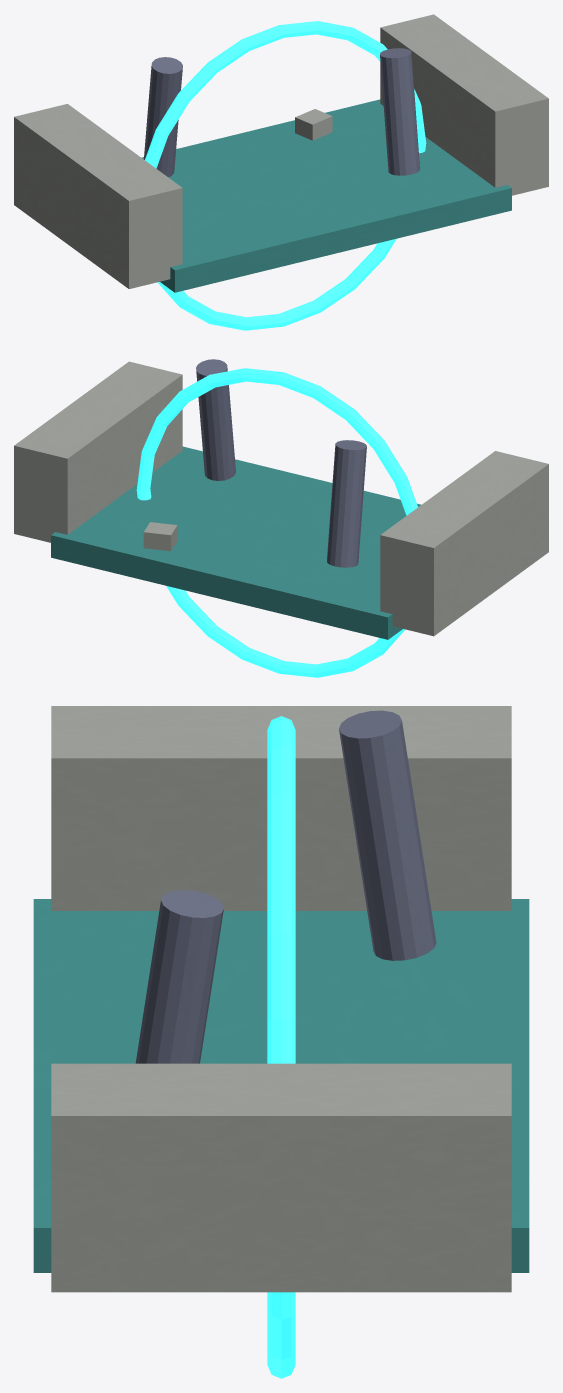
The model's file is sunken-bastion.glb.
3 views of the same model, one above another, from view 1: azimuth 30°, elevation 25°; view 2: azimuth 150°, elevation 25°; view 3: azimuth 270°, elevation 25° (orthographic). The views are drawn at different scales.
Parts seen in each view (by area): view 1: bastion-flooded-floor, bastion-left-rampart, bastion-right-rampart, bastion-tide-ring, bastion-anchor-post-1, bastion-anchor-post-0, bastion-driftwood-crate; view 2: bastion-flooded-floor, bastion-left-rampart, bastion-right-rampart, bastion-tide-ring, bastion-anchor-post-0, bastion-anchor-post-1, bastion-driftwood-crate; view 3: bastion-right-rampart, bastion-left-rampart, bastion-flooded-floor, bastion-anchor-post-0, bastion-tide-ring, bastion-anchor-post-1.
Boxes of the visible parts, x1=… form: bastion-flooded-floor: x1=142, y1=99, x2=511, y2=292; bastion-left-rampart: x1=14, y1=104, x2=182, y2=288; bastion-right-rampart: x1=380, y1=14, x2=548, y2=195; bastion-tide-ring: x1=145, y1=21, x2=426, y2=330; bastion-anchor-post-1: x1=380, y1=48, x2=419, y2=175; bastion-anchor-post-0: x1=144, y1=57, x2=182, y2=177; bastion-driftwood-crate: x1=295, y1=109, x2=332, y2=140; bastion-flooded-floor: x1=51, y1=446, x2=421, y2=639; bastion-left-rampart: x1=380, y1=451, x2=548, y2=636; bastion-right-rampart: x1=14, y1=361, x2=182, y2=542; bastion-tide-ring: x1=136, y1=368, x2=417, y2=677; bastion-anchor-post-0: x1=327, y1=440, x2=366, y2=567; bastion-anchor-post-1: x1=196, y1=359, x2=235, y2=480; bastion-driftwood-crate: x1=143, y1=522, x2=177, y2=551; bastion-right-rampart: x1=51, y1=1063, x2=511, y2=1292; bastion-left-rampart: x1=51, y1=706, x2=511, y2=910; bastion-flooded-floor: x1=33, y1=899, x2=529, y2=1272; bastion-anchor-post-0: x1=339, y1=710, x2=436, y2=960; bastion-tide-ring: x1=267, y1=716, x2=295, y2=1378; bastion-anchor-post-1: x1=135, y1=890, x2=223, y2=1063.
Bounding box in the file's own units: 2.74 × 1.88 × 1.4.
Materials: 4 (4 with a texture image).
